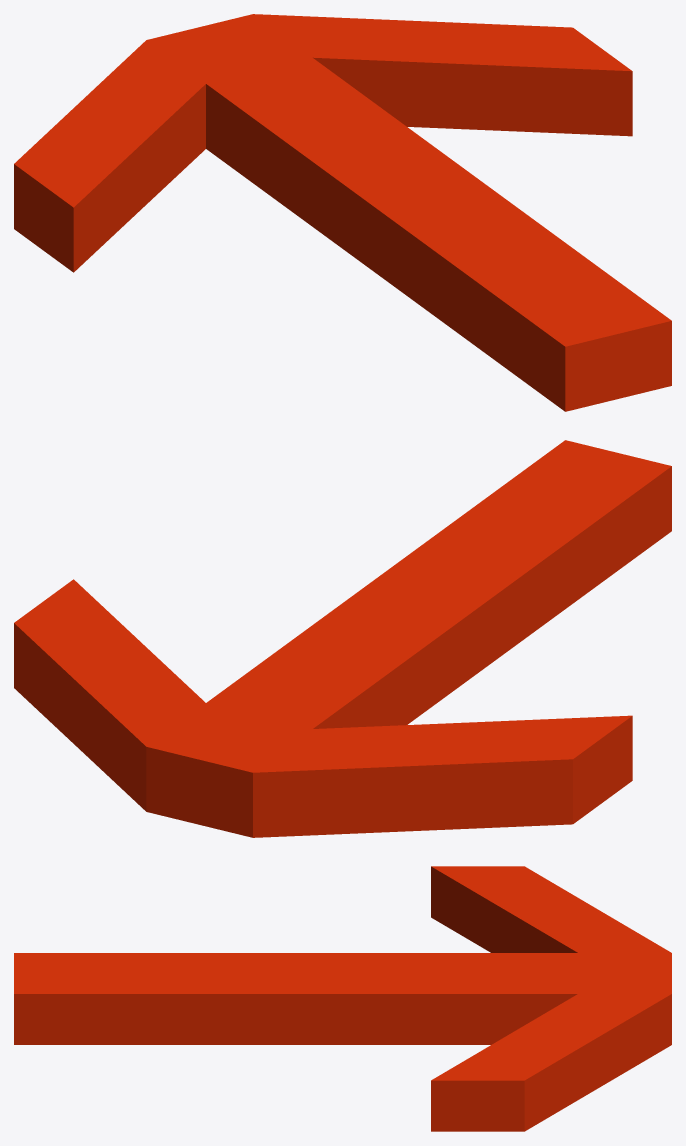
The model's file is arrow.fbx.
3 renders of one model, top to bottom at view 1: azimuth 30°, elevation 25°; view 2: azimuth 150°, elevation 25°; view 3: azimuth 270°, elevation 25°, orthographic. The views are drawn at different scales.
Parts seen in each view (by area): view 1: Cube; view 2: Cube; view 3: Cube.
Part boxes in pixels (<box>): Cube: <box>14,14,671,411</box>; Cube: <box>14,440,671,837</box>; Cube: <box>14,866,671,1131</box>.
Bounding box in the file's own units: 180 × 20 × 233.
